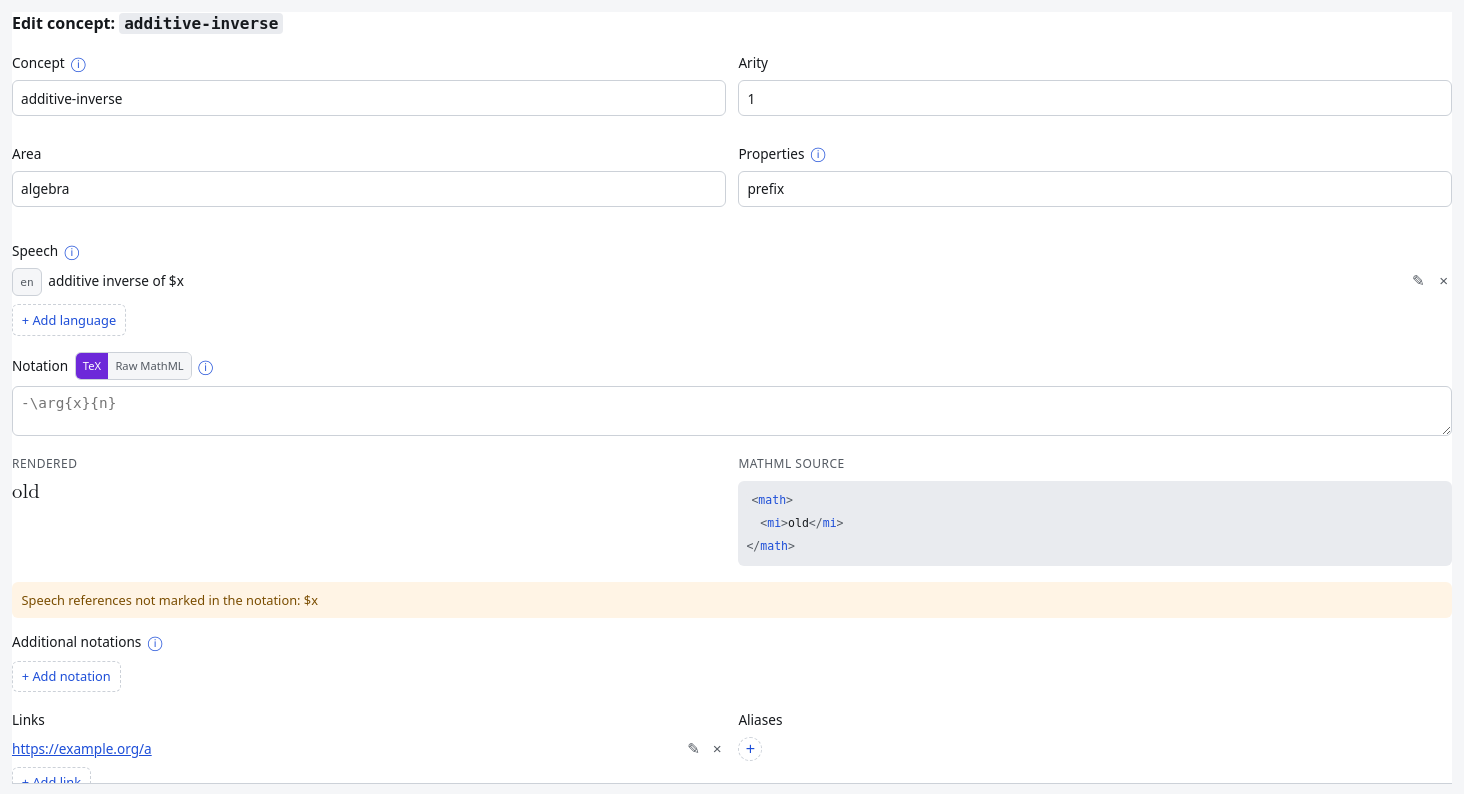
Test: NotationEditor › shows concept-naming guidance via the info button
The image size is (1464, 794).
Click the button named "Naming help". click: (78, 63)
box: [71,56,86,70]
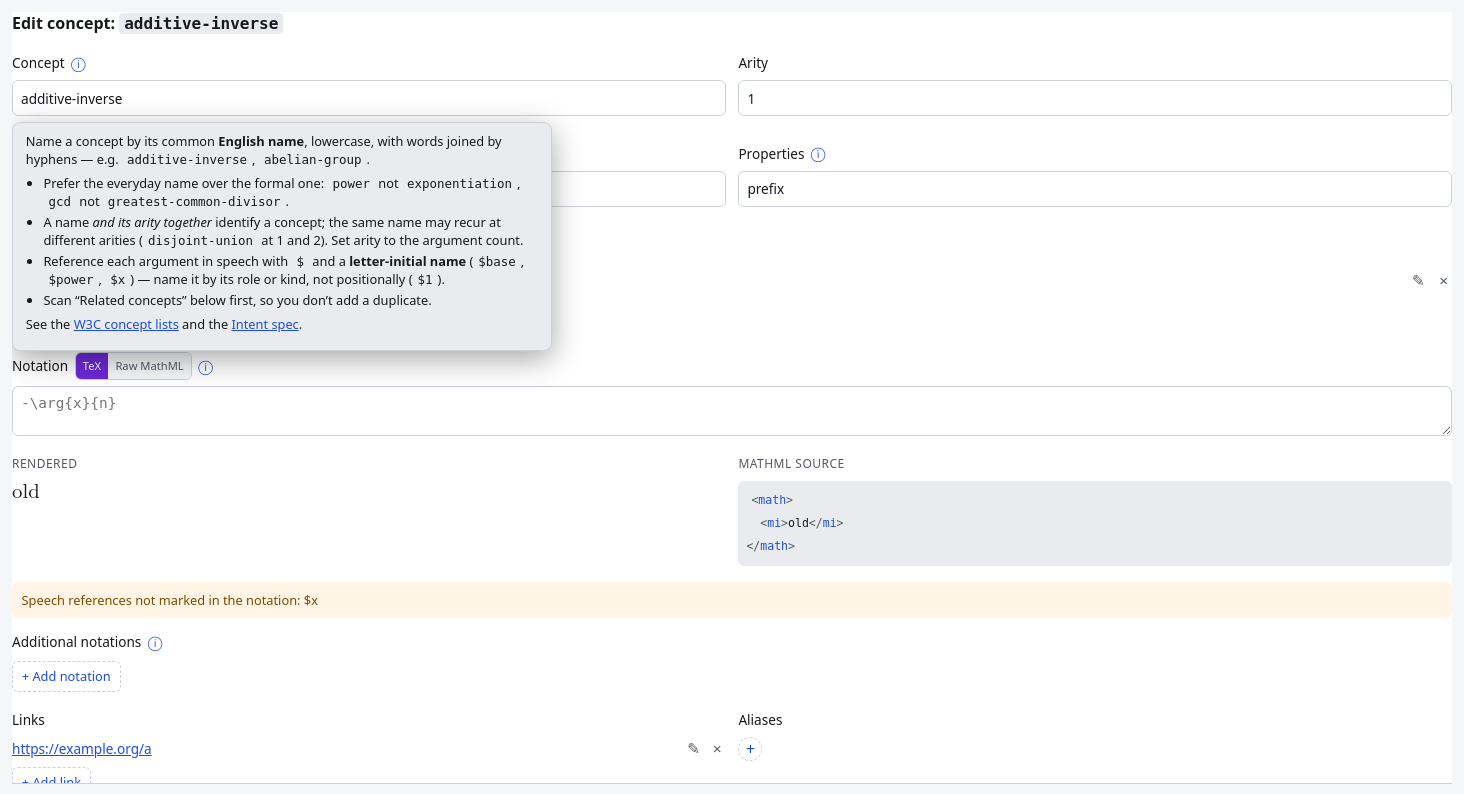
Expected: the element with test id "naming-help" is shown, [26,133,538,334]
